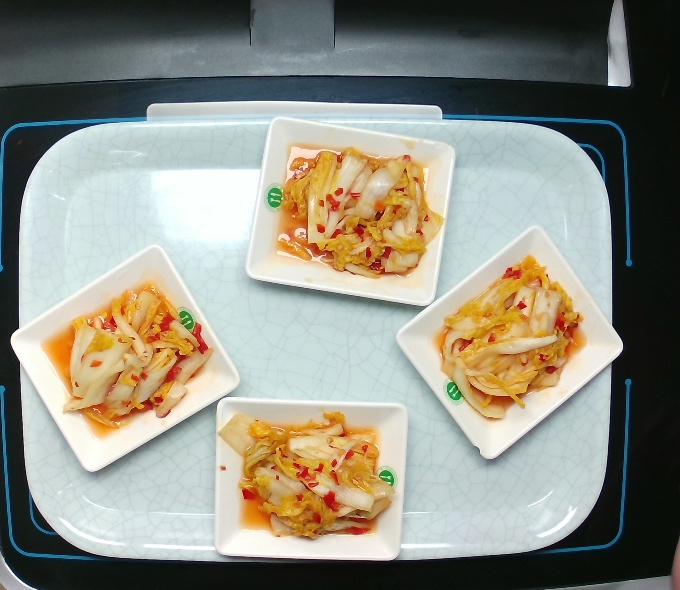wcq-SuanLaBaiCai: (269, 138, 441, 275), (56, 286, 208, 434), (441, 262, 583, 420), (238, 415, 392, 541)
